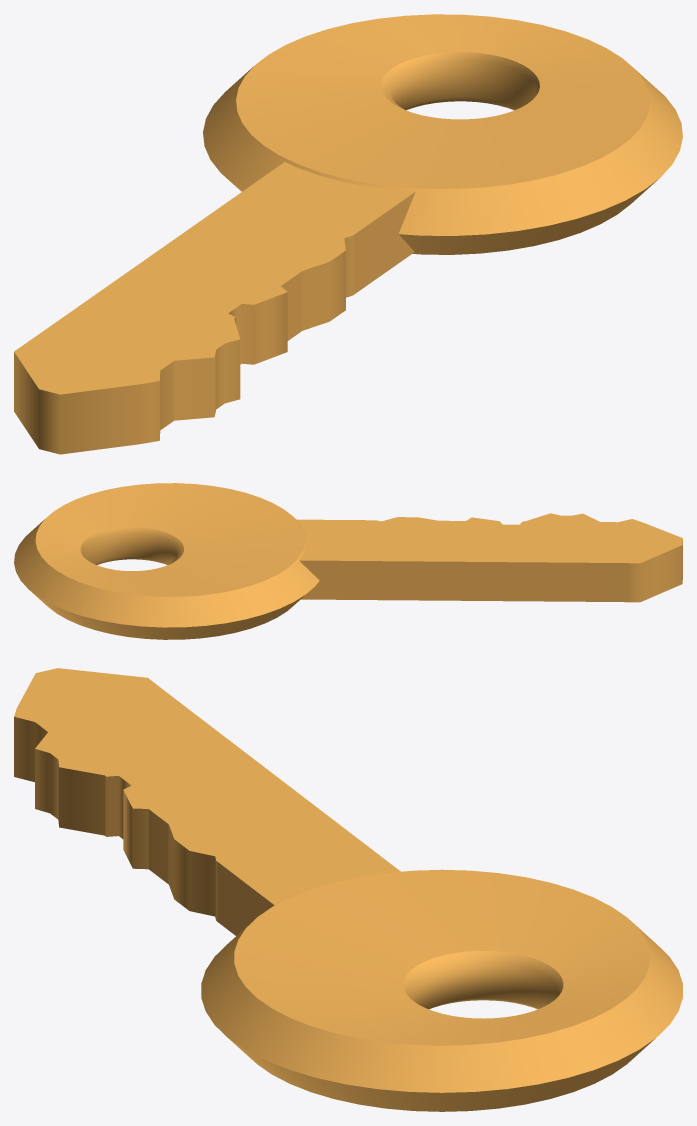
Rendered from klucz.fbx.
3 renders of one model, top to bottom at view 1: azimuth 30°, elevation 25°; view 2: azimuth 150°, elevation 25°; view 3: azimuth 270°, elevation 25°, orthographic. The views are drawn at different scales.
Visible parts, largest first — view 1: klucz; view 2: klucz; view 3: klucz.
Part boxes in pixels (bbox=[...]): klucz: bbox=[14, 14, 682, 454]; klucz: bbox=[14, 483, 682, 639]; klucz: bbox=[14, 668, 682, 1111].
Bounding box in the file's own units: 244 × 19.08 × 175.
